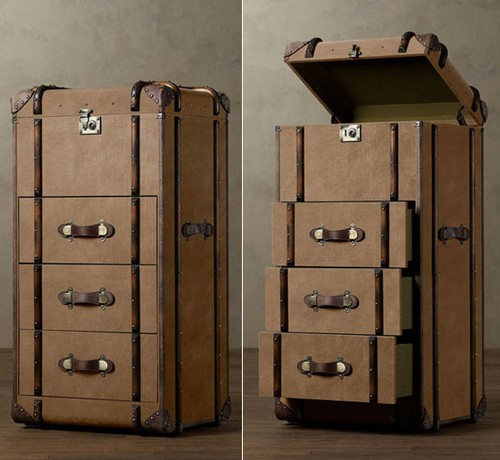shoutibox: (10, 82, 230, 435)
